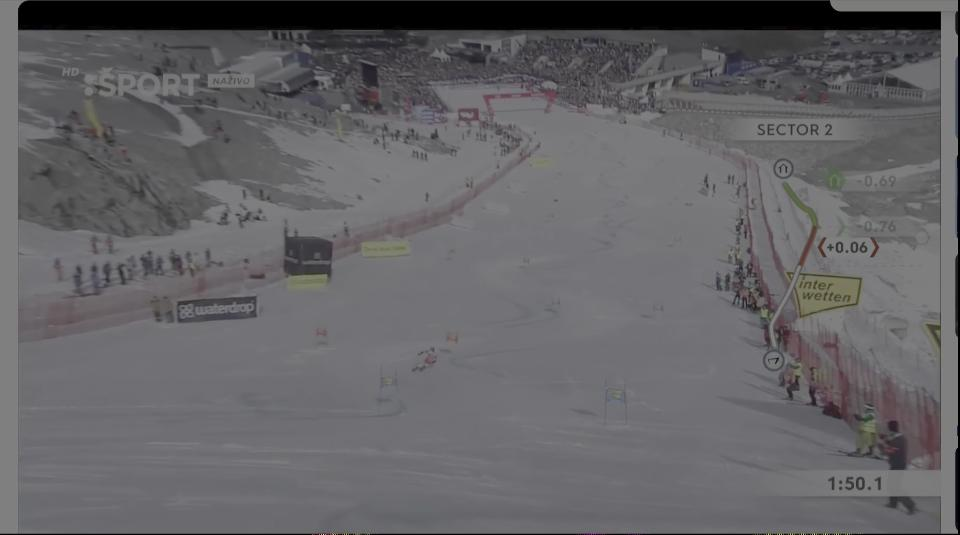gate: (389, 364, 403, 411), (621, 375, 632, 425), (371, 366, 385, 404), (605, 379, 610, 421)
